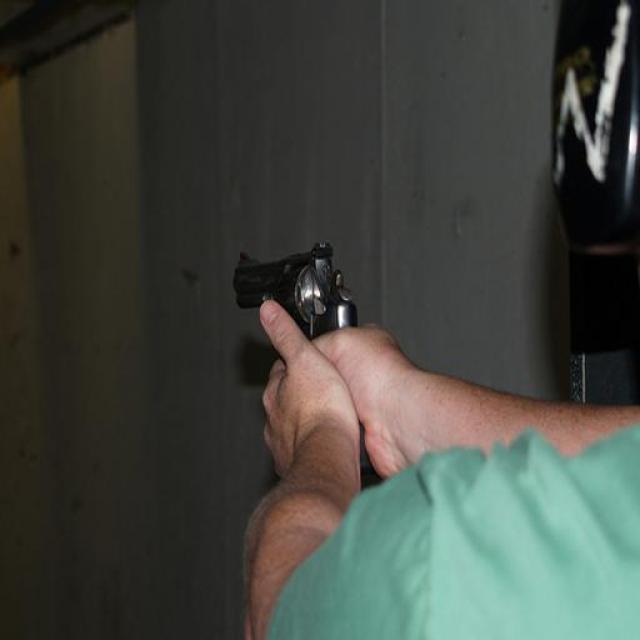pistol: (231, 231, 369, 475)
